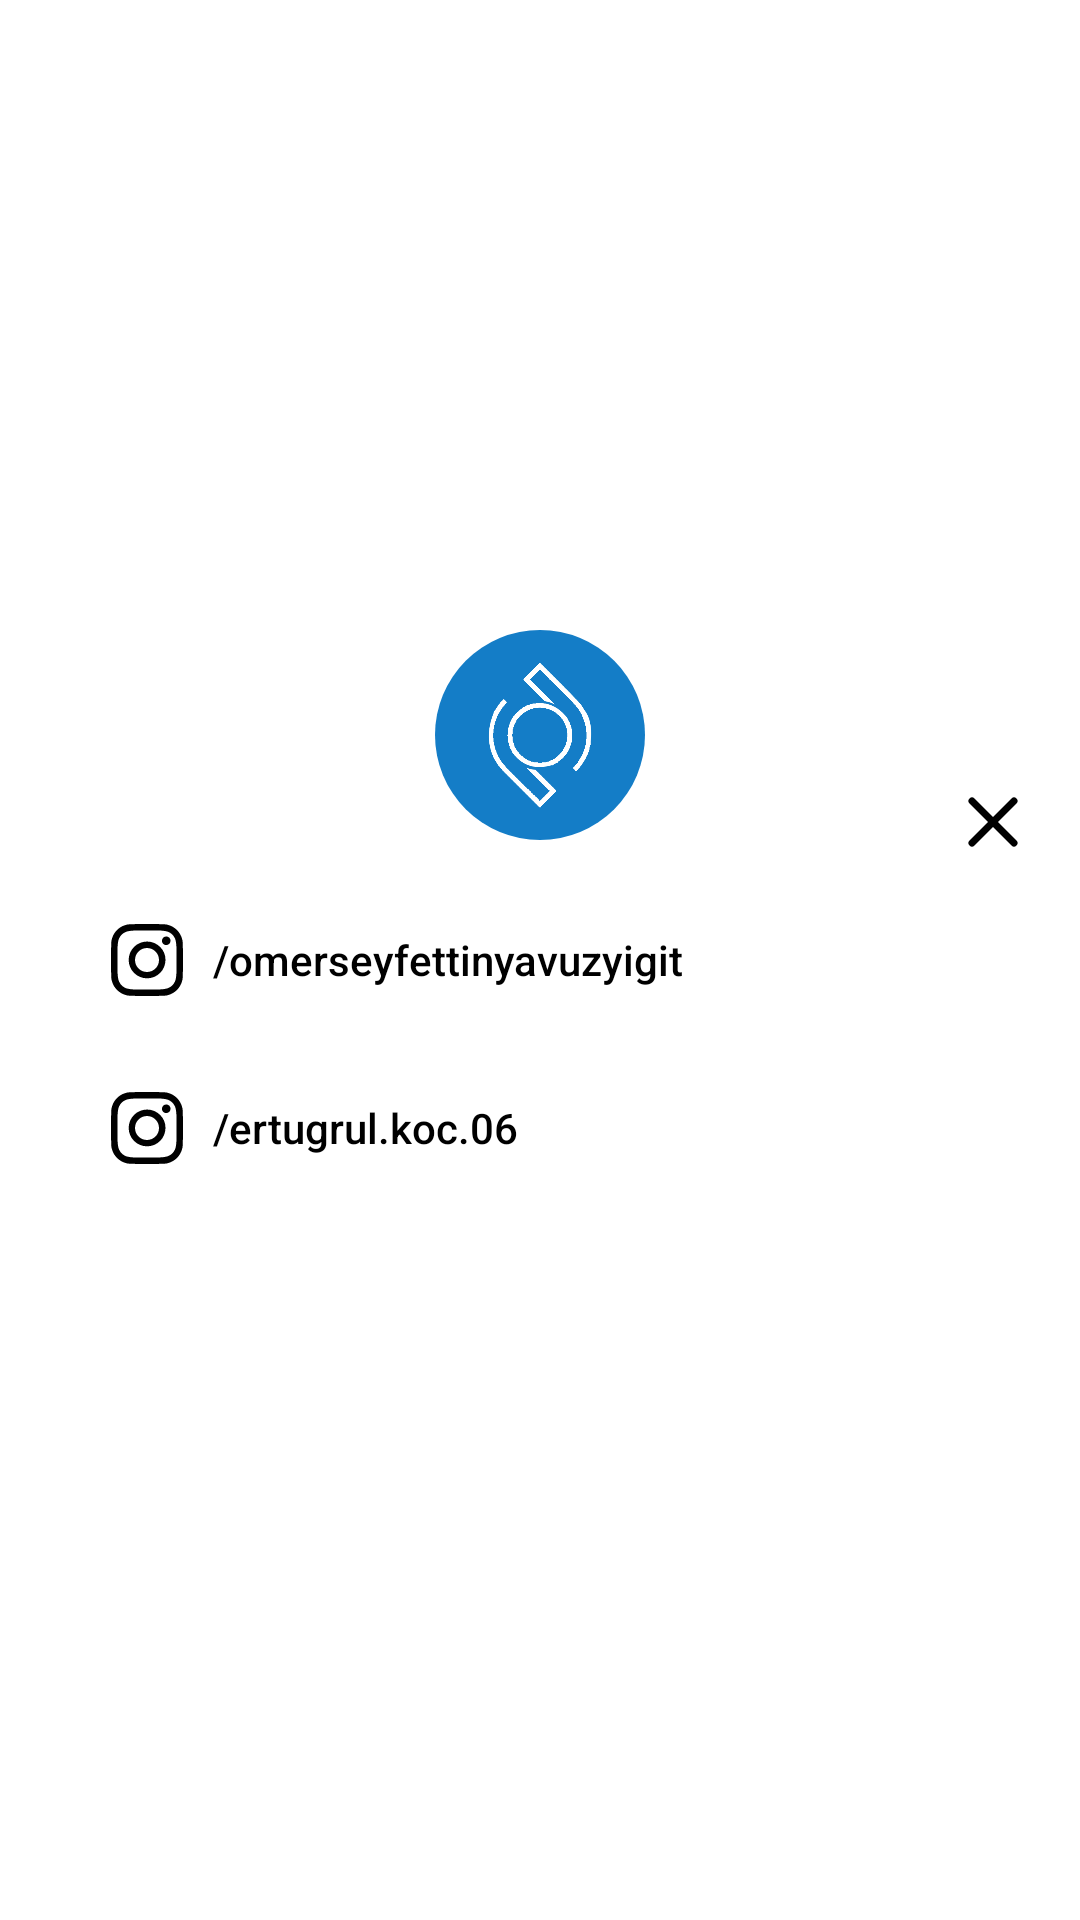

Screen size 1080px×1920px. Icon name, then its center in pixels as (x=x, y=y):
cancel: (x=993, y=822)
